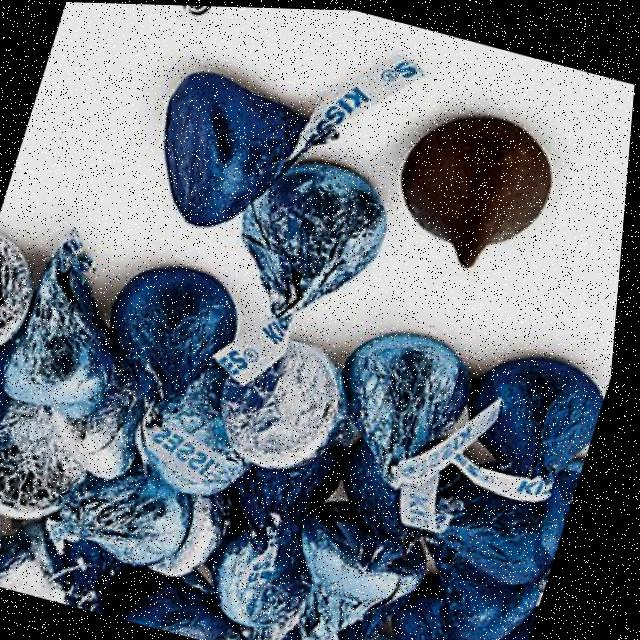kisses: (110, 3, 408, 273), (360, 54, 624, 314), (291, 290, 534, 528), (206, 137, 425, 360), (81, 238, 262, 458), (234, 476, 460, 640)
